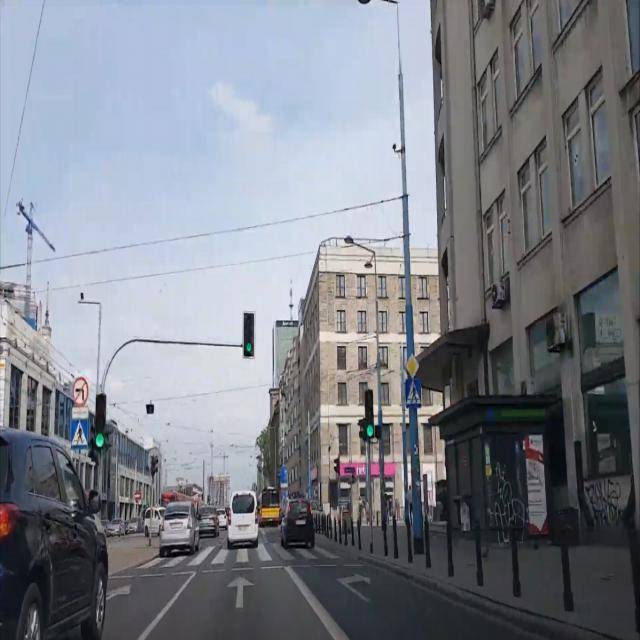Droga z pierwszenstwem: (405, 352, 420, 376)
Przejscie dla pieszych: (71, 417, 89, 450), (405, 379, 422, 408)
Zakaz wjazdu: (133, 491, 141, 503)
